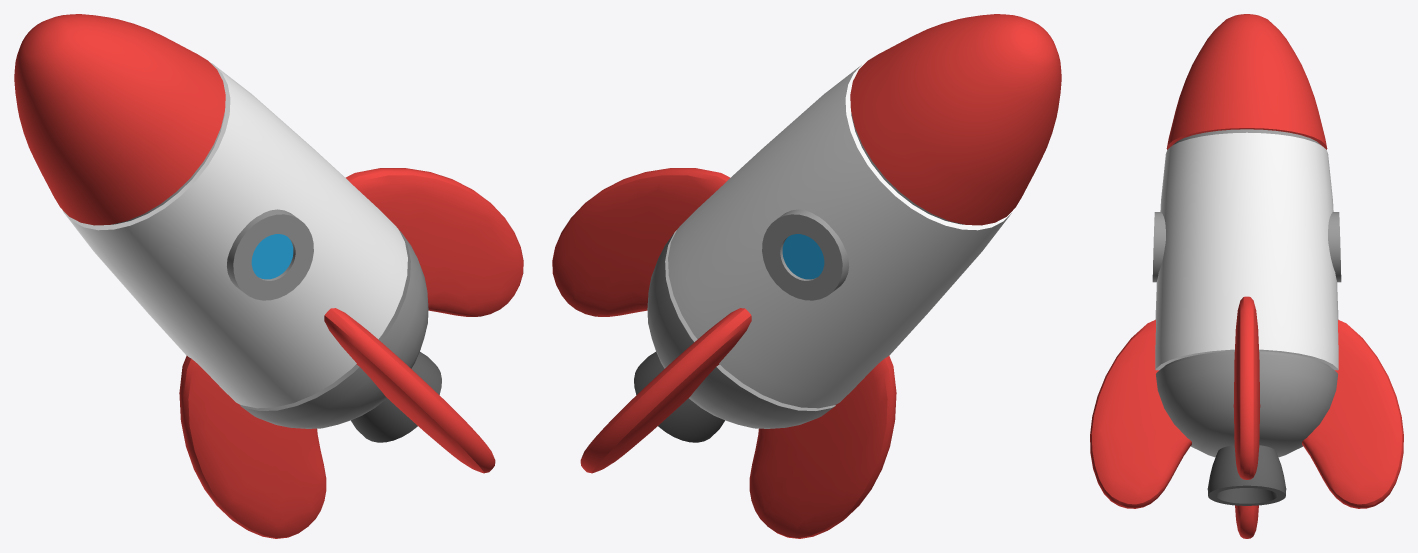
Rendered from rocket.glb.
3 renders of one model, left to right at view 1: azimuth 30°, elevation 25°; view 2: azimuth 150°, elevation 25°; view 3: azimuth 270°, elevation 25°, orthographic. The views are drawn at different scales.
Visible parts, largest first — view 1: Circle.2410; view 2: Circle.2410; view 3: Circle.2410.
Boxes of the visible parts, left/top/right/bottom form: Circle.2410: left=14, top=14, right=523, bottom=538; Circle.2410: left=552, top=14, right=1061, bottom=538; Circle.2410: left=1090, top=14, right=1403, bottom=538.
Size of the model in its own units: 2.19 by 2.38 by 1.55.
1 material, 1 textured.
